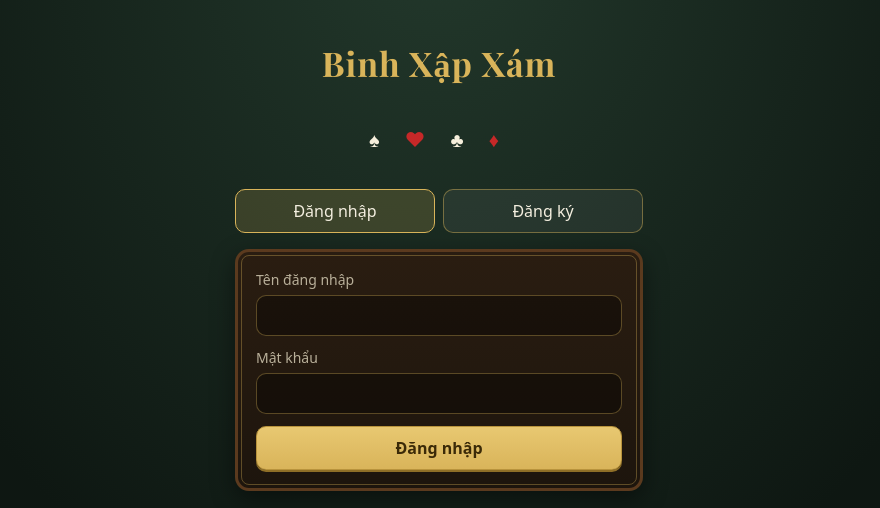
it: Login page › switches to the register tab
The width and height of the screenshot is (880, 508).
Click the tab "Đăng ký".
click(543, 211)  # box x1=443 y1=189 x2=643 y2=233
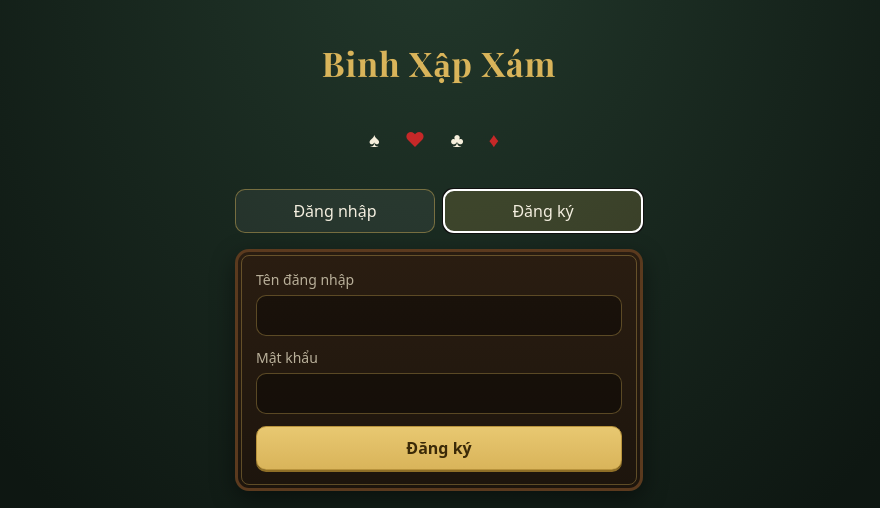
Now the button "Đăng ký" is shown, box x1=256 y1=426 x2=622 y2=470
